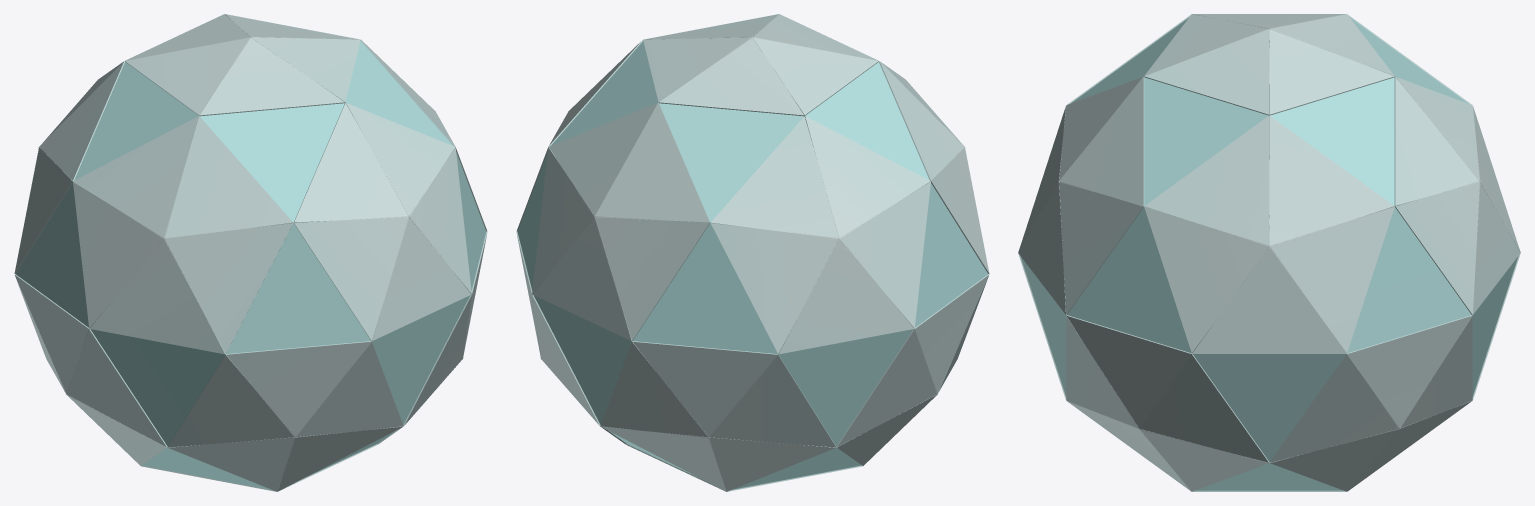
The picture shows the model from 3 angles, left to right: view 1: azimuth 30°, elevation 25°; view 2: azimuth 150°, elevation 25°; view 3: azimuth 270°, elevation 25°; orthographic projection. The views are drawn at different scales.
Parts seen in each view (by area): view 1: facet; view 2: facet; view 3: facet.
Part boxes in pixels (x1,y1,x2,y2): facet: (14,14,487,491); facet: (516,14,989,491); facet: (1018,14,1520,491).
Bounding box in the file's own units: 0.2868 × 0.2972 × 0.3014.
